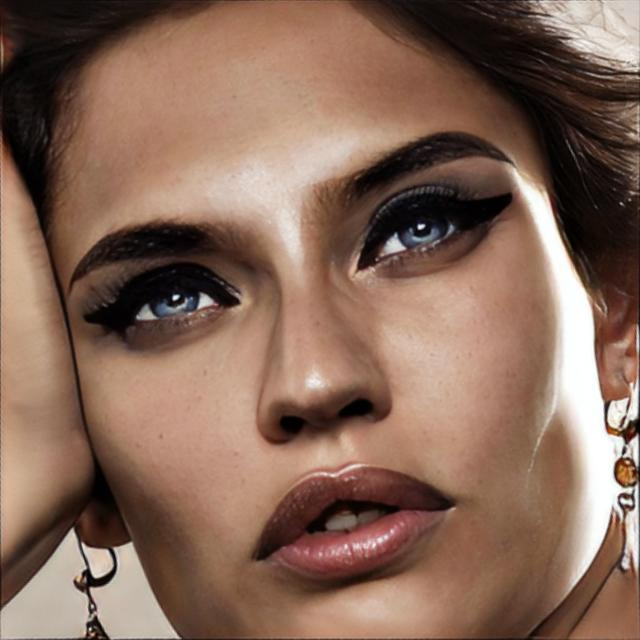neutral: (48, 0, 614, 640)
